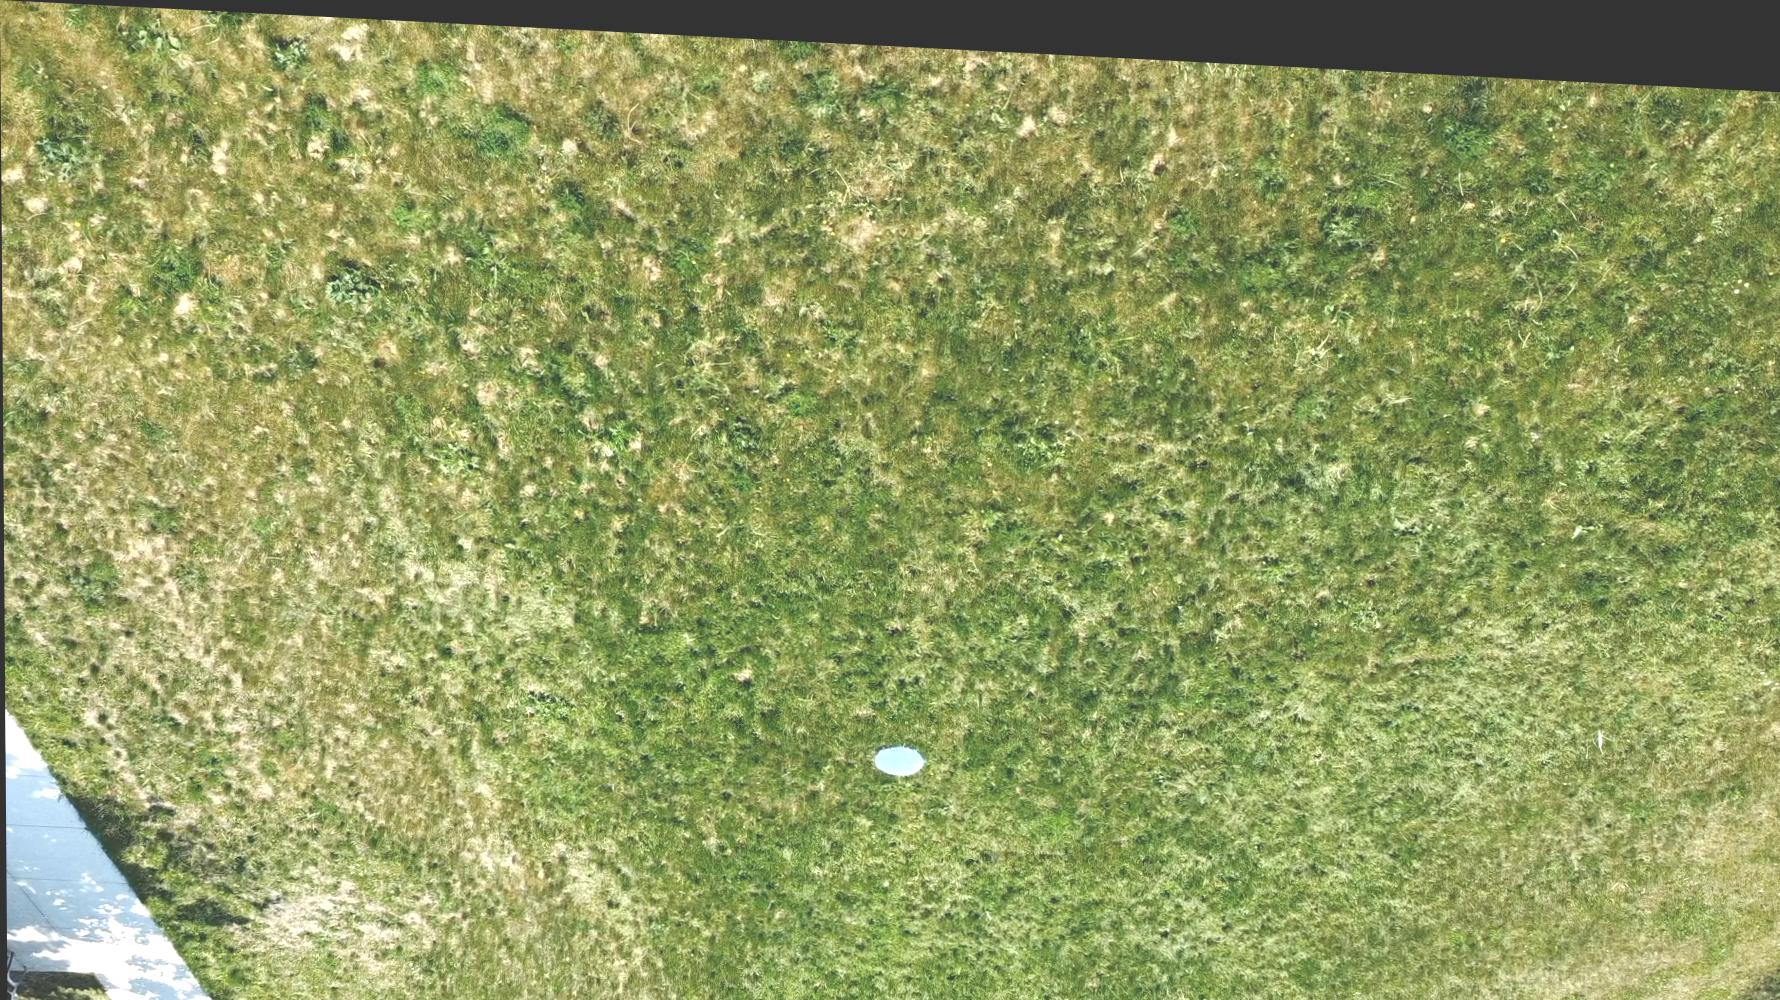Blue: (870, 732, 928, 773)
Red: (1124, 995, 1168, 1000)
